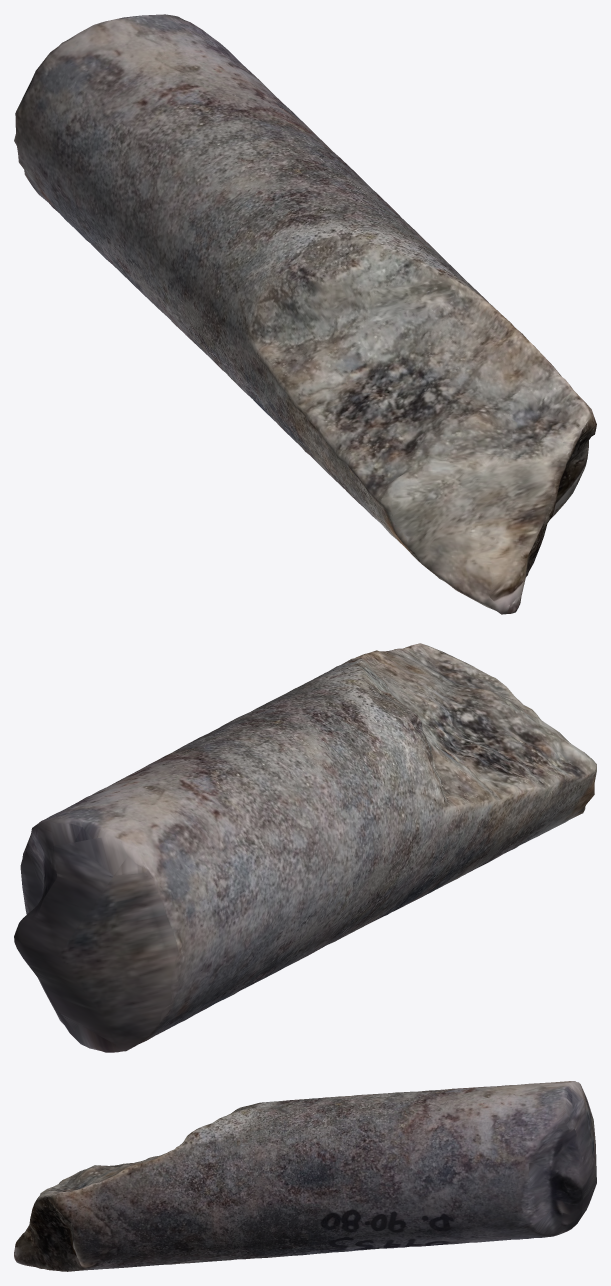
The model's file is PECLD07755 T4.glb.
The picture shows the model from 3 angles, top to bottom: view 1: azimuth 30°, elevation 25°; view 2: azimuth 150°, elevation 25°; view 3: azimuth 270°, elevation 25°; orthographic projection. The views are drawn at different scales.
Visible parts, largest first — view 1: baked_mesh; view 2: baked_mesh; view 3: baked_mesh.
Part boxes in pixels (x1,y1,x2,y2): baked_mesh: (14,14,596,614); baked_mesh: (14,643,596,1052); baked_mesh: (14,1081,596,1271).
Bounding box in the file's own units: 0.1935 × 0.2373 × 0.676.
1 material, 1 textured.
